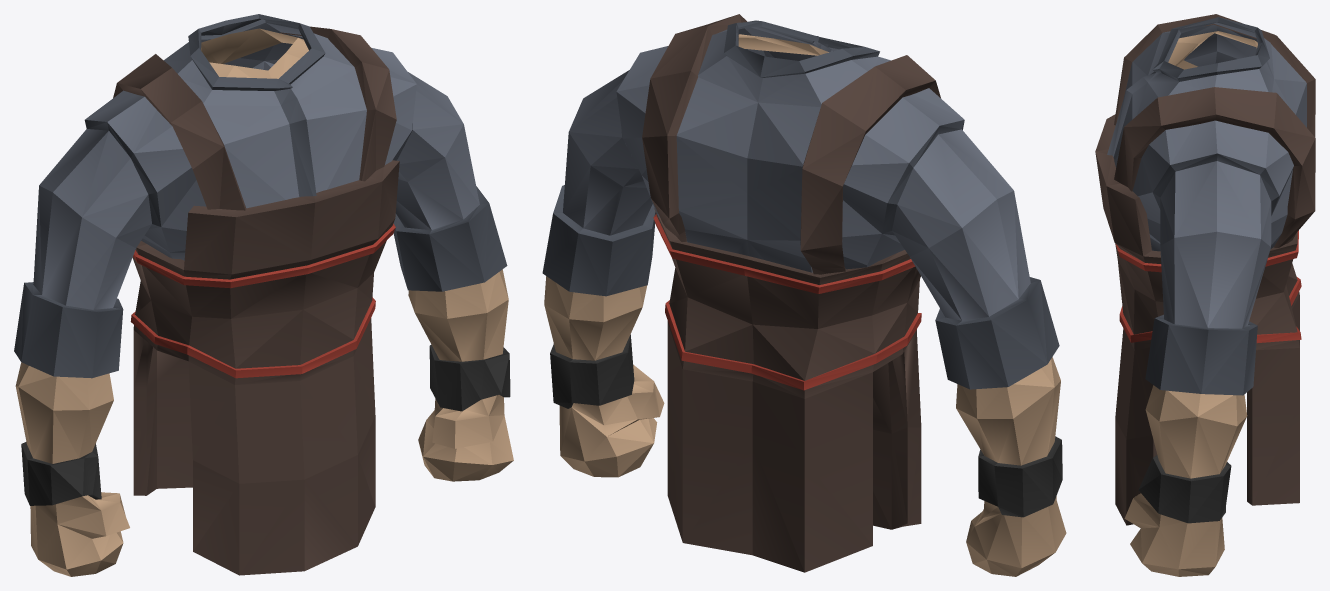
File: RareBlacksmithChestplate.dae
3 views of the same model, side by side, from view 1: azimuth 30°, elevation 25°; view 2: azimuth 150°, elevation 25°; view 3: azimuth 270°, elevation 25° (orthographic). The views are drawn at different scales.
Parts seen in each view (by area): view 1: Chestplate; view 2: Chestplate; view 3: Chestplate.
Part boxes in pixels (x1,y1,x2,y2): Chestplate: (14,14,513,576); Chestplate: (542,14,1066,576); Chestplate: (1095,14,1315,576).
Bounding box in the file's own units: 5.2 × 2.19 × 5.08.
